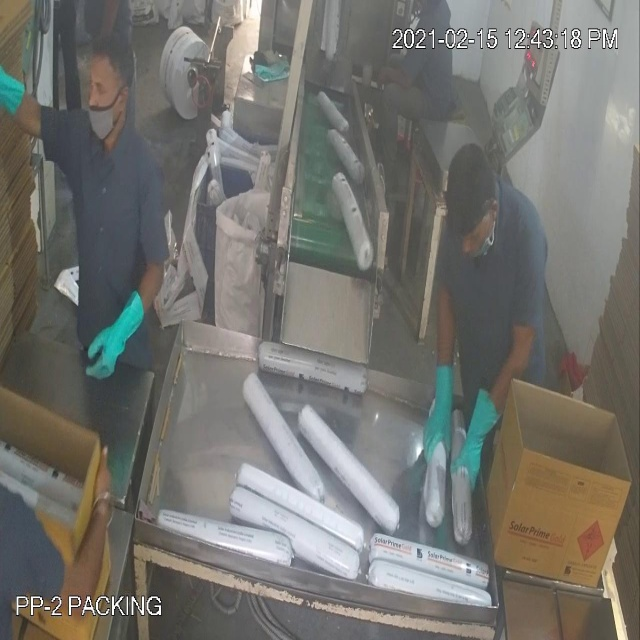Guantes: (86, 278, 149, 388), (456, 378, 494, 508), (423, 350, 460, 476)
Sin_guantes: (368, 65, 415, 100)
